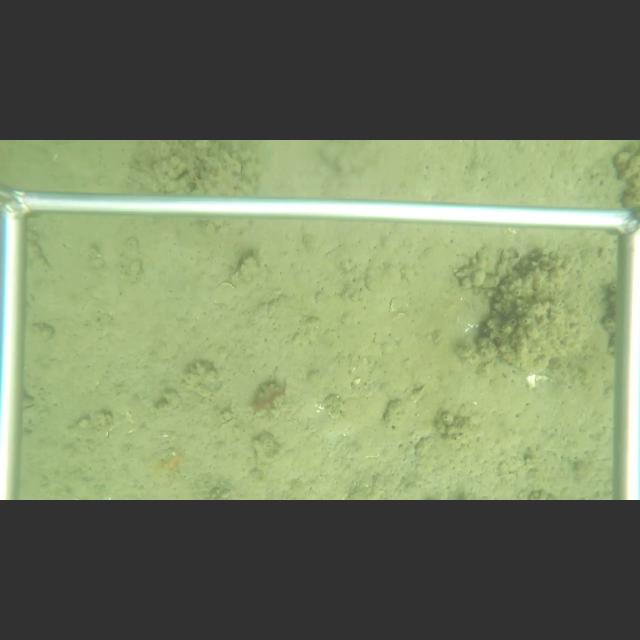Oyster-Closed: (226, 252, 261, 289)
